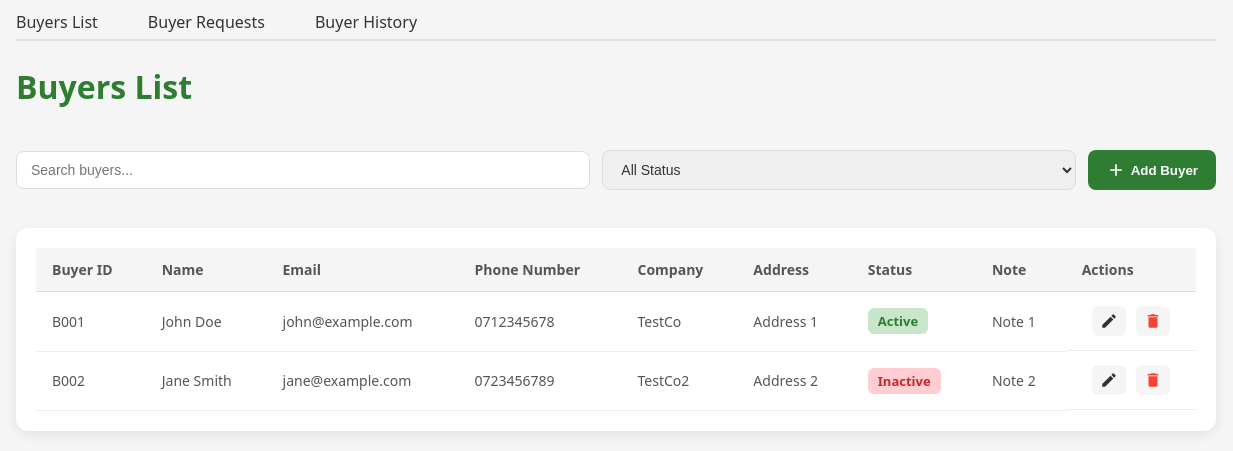
Scenario: BuyersList Component › filters buyers by search term
Expected: the text "John Doe" is shown, [146,292,266,351]
Type "Jane" into the field with placeholder "Search buyers..." at (303,170), box [16,151,590,189]
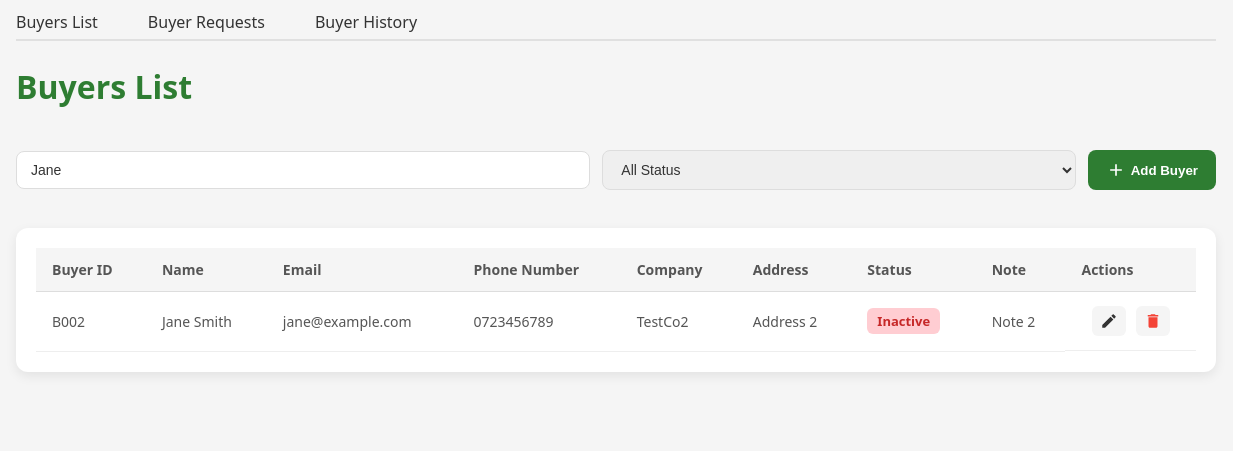
Expected: the text "Jane Smith" is shown, [146,292,267,351]
Now the text "John Doe" is gone
